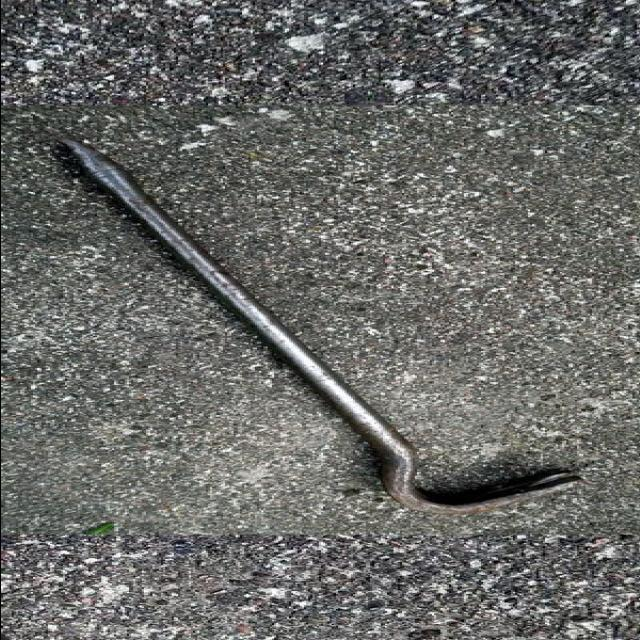Linggis: (53, 135, 583, 515)
